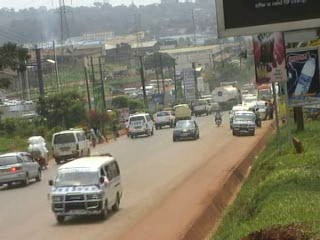Car: (0, 150, 42, 189), (171, 118, 200, 142)
Motorcycle: (26, 132, 50, 173), (213, 106, 224, 128)
